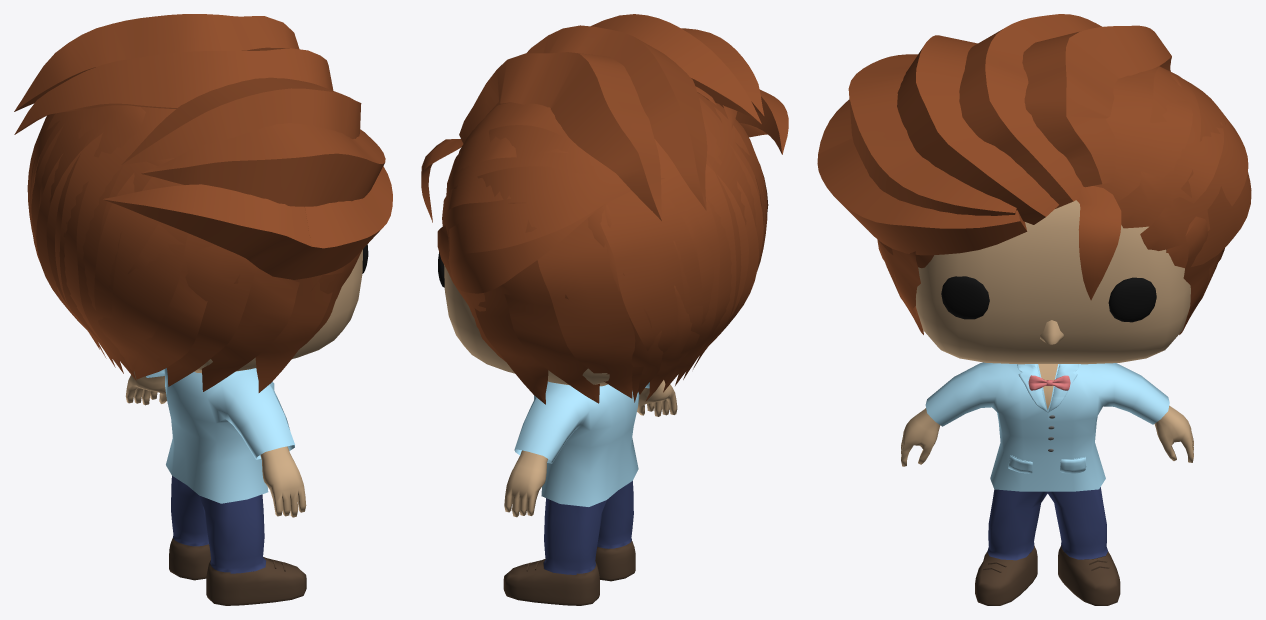
The model's file is Cientific.glb.
The picture shows the model from 3 angles, left to right: view 1: azimuth 30°, elevation 25°; view 2: azimuth 150°, elevation 25°; view 3: azimuth 270°, elevation 25°; orthographic projection. The views are drawn at different scales.
Parts seen in each view (by area): view 1: Cientific_Hair, Cientific_Body, Cientific_legs, Cientific_shoes, Cientific_hands, Cientific_Head; view 2: Cientific_Hair, Cientific_Body, Cientific_legs, Cientific_shoes, Cientific_hands, Cientific_Head; view 3: Cientific_Hair, Cientific_Head, Cientific_Body, Cientific_legs, Cientific_shoes, Cientific_eyes, Cientific_hands.
Boxes of the visible parts, x1,y1,x2,y2 form: Cientific_Hair: (14,14,392,392); Cientific_Body: (146,368,294,503); Cientific_legs: (171,476,266,573); Cientific_shoes: (169,538,306,605); Cientific_hands: (125,371,306,517); Cientific_Head: (194,249,362,373); Cientific_Hair: (421,14,788,404); Cientific_Body: (514,381,649,506); Cientific_legs: (543,481,633,574); Cientific_shoes: (503,541,635,605); Cientific_hands: (504,380,677,517); Cientific_Head: (444,265,609,386); Cientific_Hair: (817,14,1251,334); Cientific_Head: (916,200,1190,409); Cientific_Body: (925,362,1169,491); Cientific_legs: (987,487,1107,560); Cientific_shoes: (975,545,1120,605); Cientific_eyes: (941,276,1156,322); Cientific_hands: (901,405,1193,466).
Bounding box in the file's own units: 0.9688 × 1.66 × 1.2.
